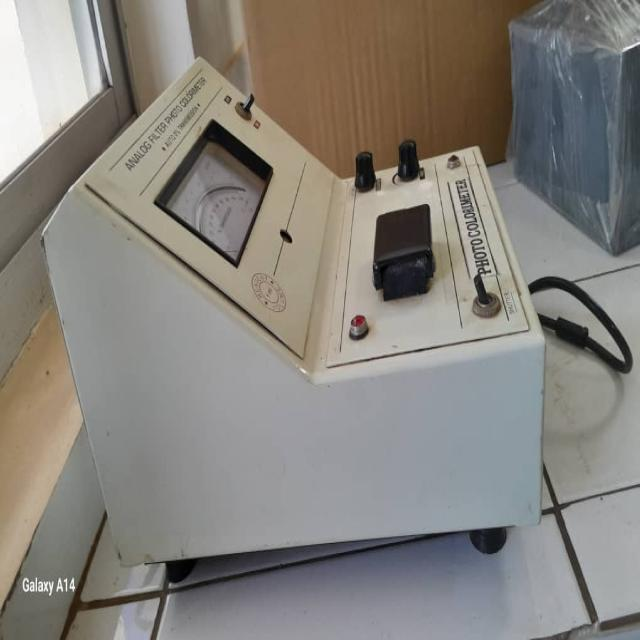Photocolorimeter: (52, 51, 546, 550)
